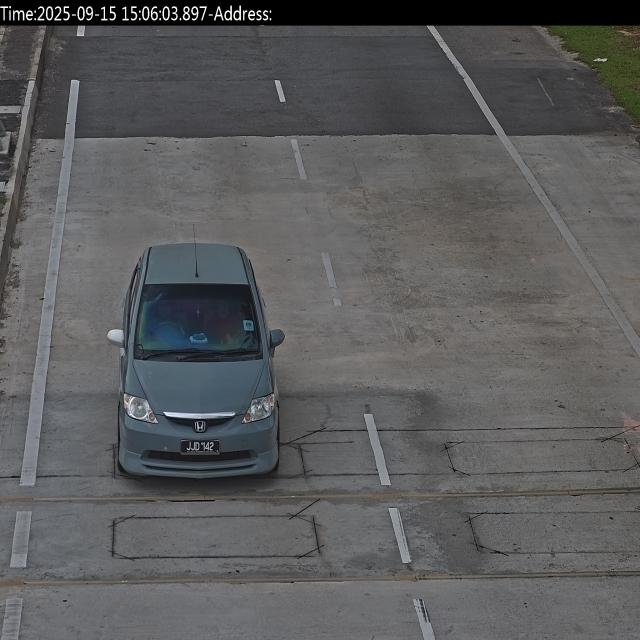front: (180, 438, 222, 456)
